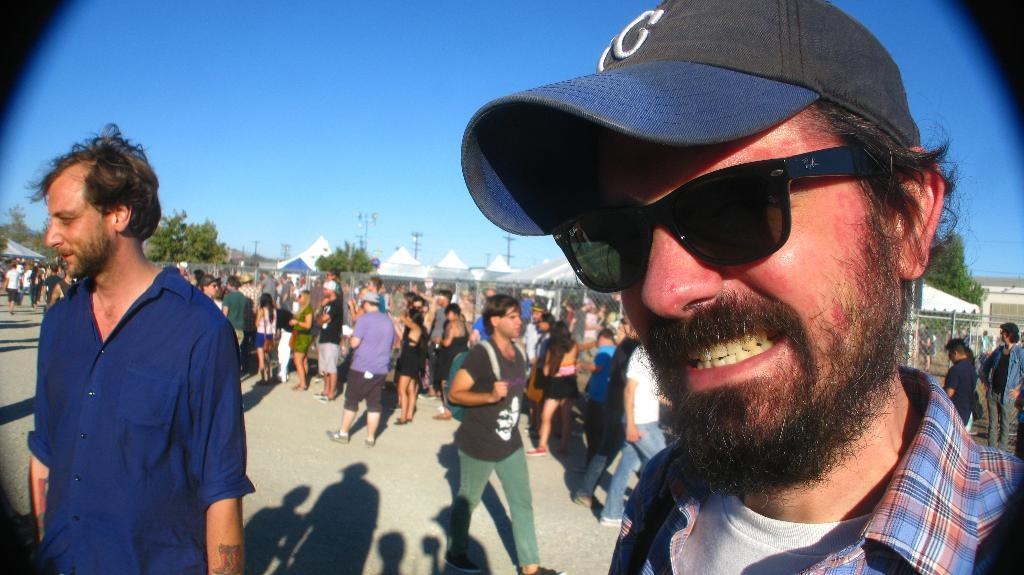Hat: (458, 0, 916, 236)
